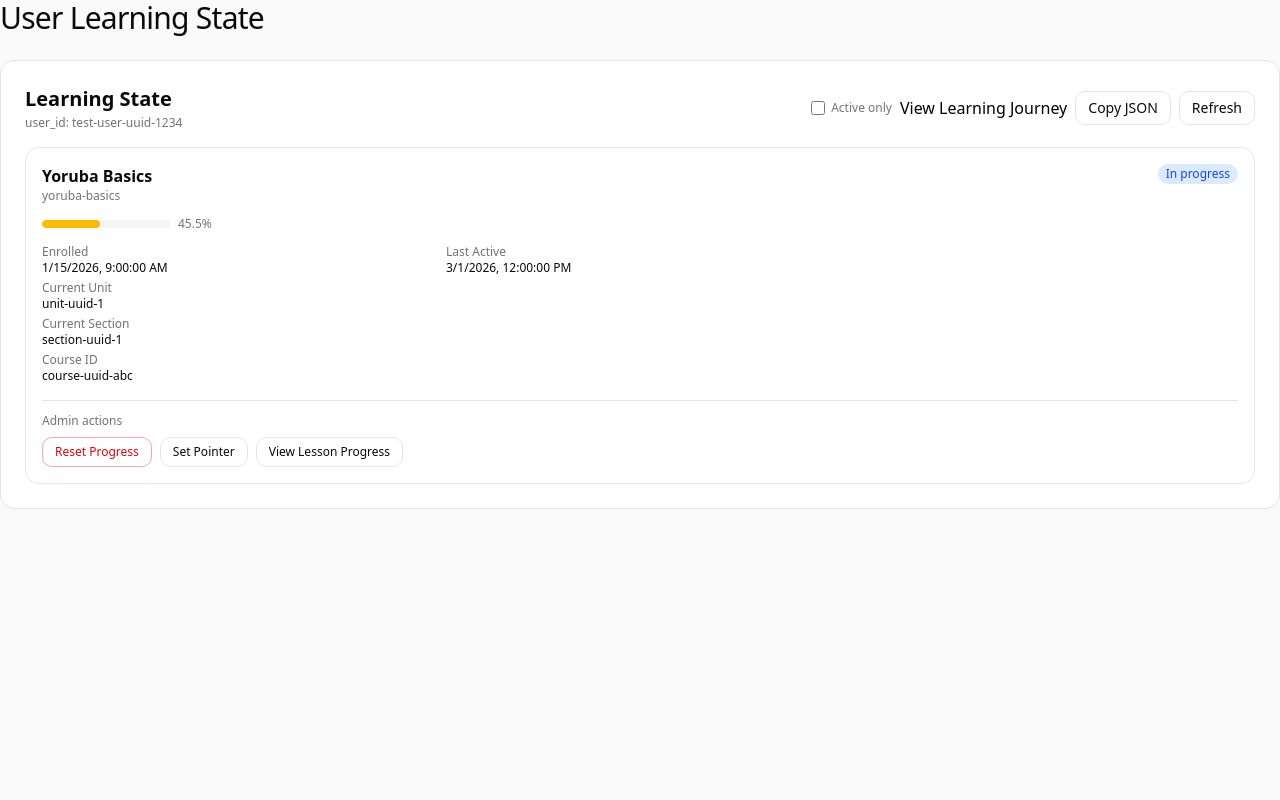
Test: UserLearningStatePage › shows toast notification after successful reset
The image size is (1280, 800).
Step 1. Click the button "Reset Progress" → (97,452), box [42, 437, 152, 467]
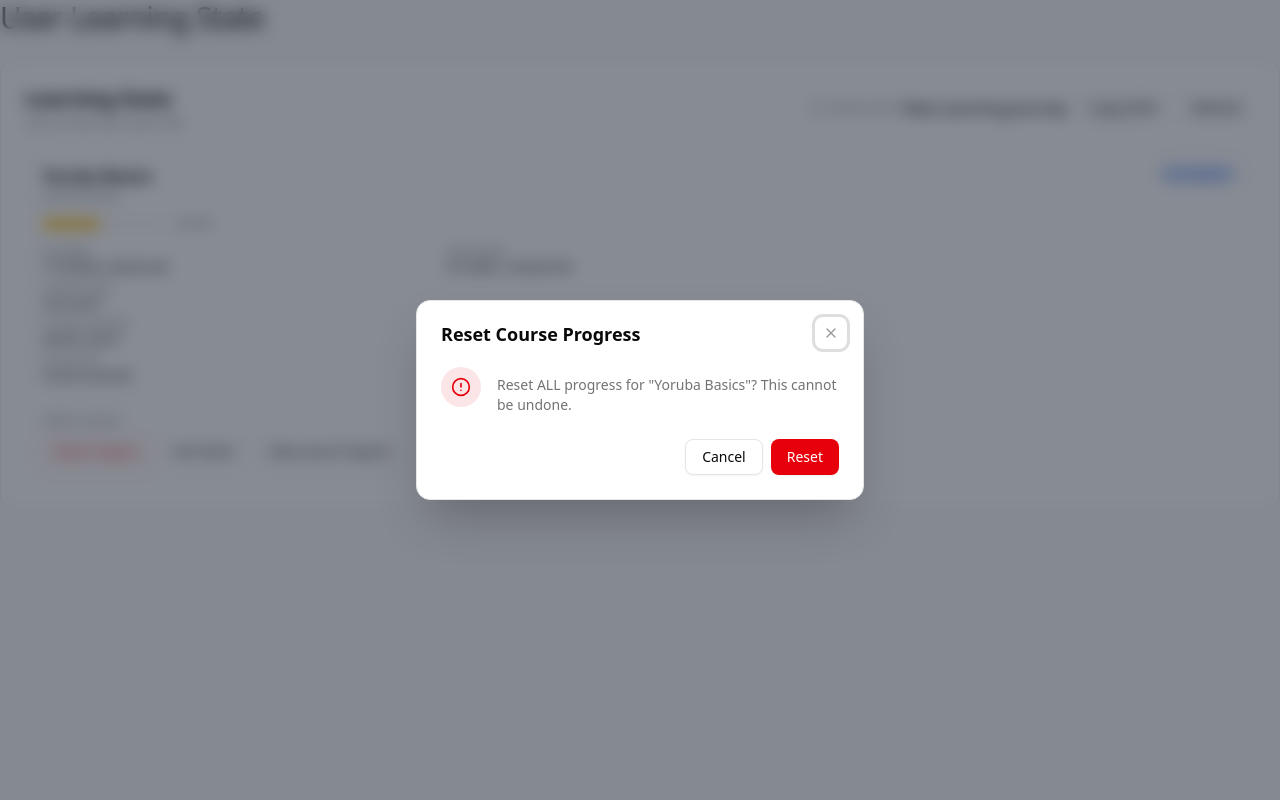
Step 2. Click the button "Reset" → (805,457), box [771, 439, 839, 475]
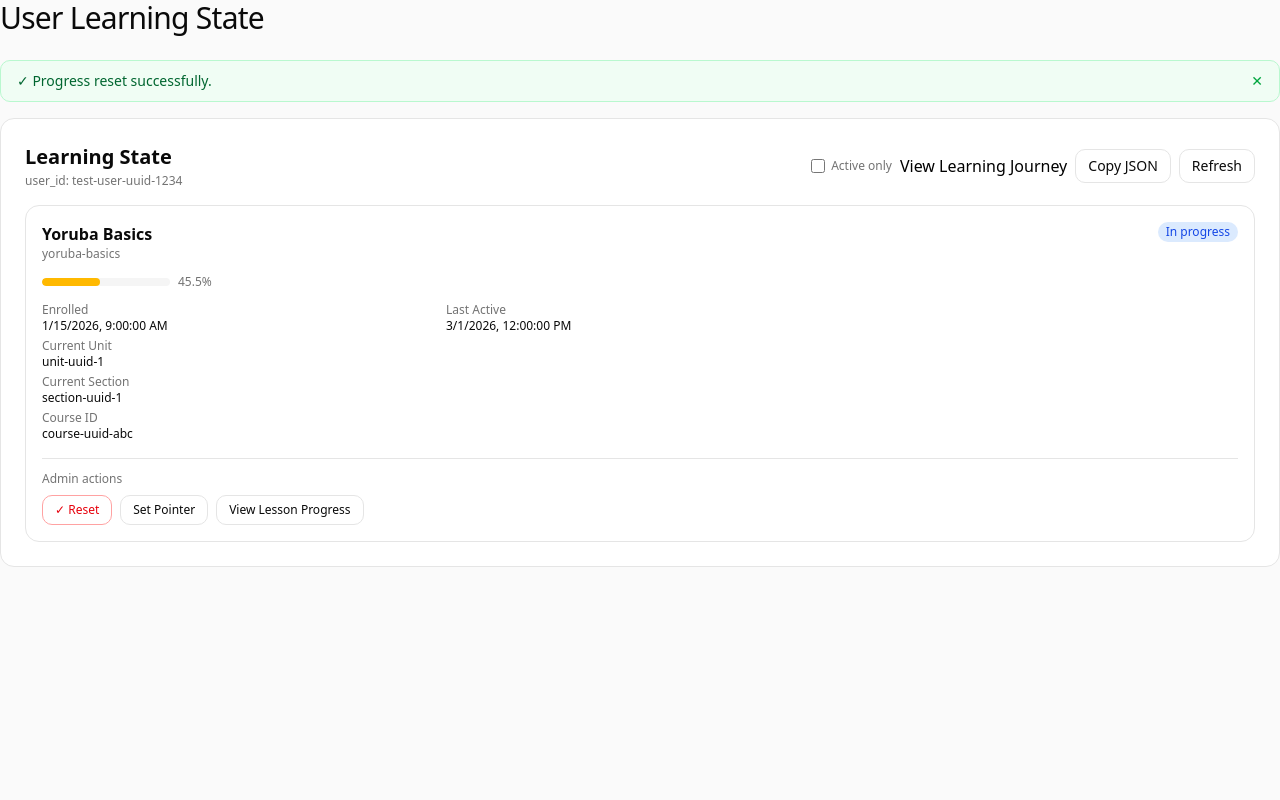
Now the text "✓ Progress reset successfully." is shown, box [17, 71, 212, 91]
